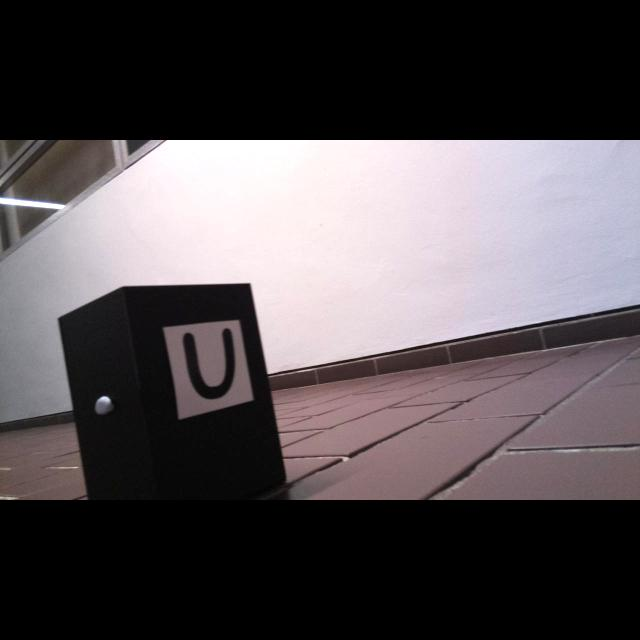U: (183, 327, 236, 400)
